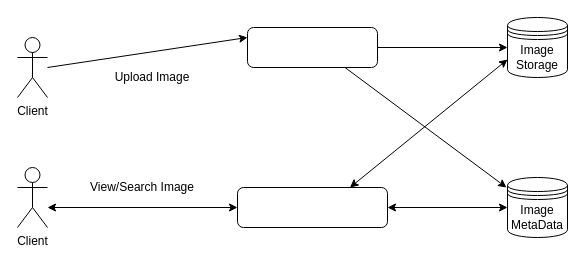
Image size: 585x266. Some labels were removed from this diagram. Each missing label, with the centre of its shape:
Download Image Service: (312,207)
Upload Image Service: (312,47)
